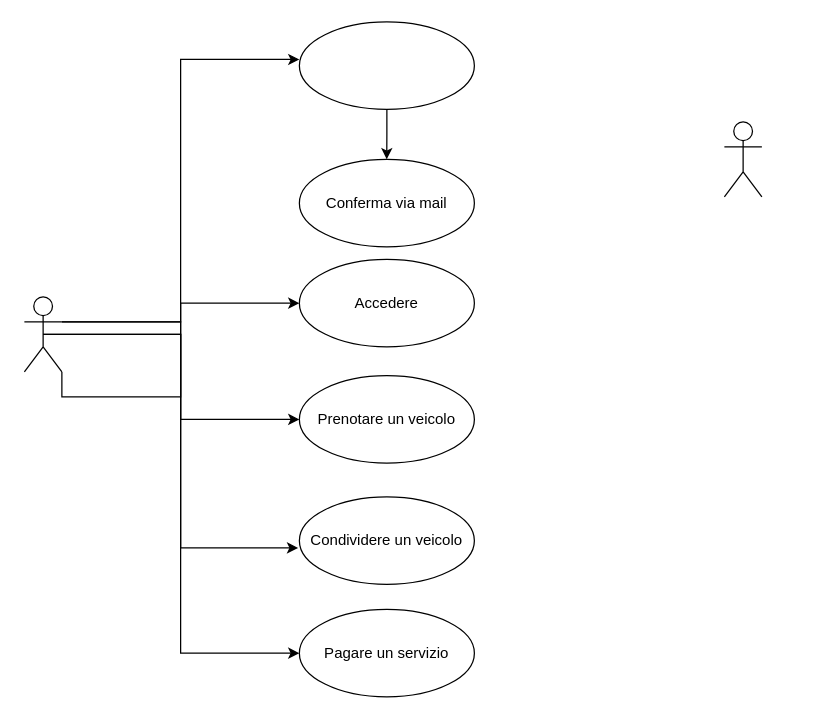
Some shapes in this 834 by 719 pixel diagram are drawn without their labels. The centre of each missing label's shape, as x and y in pixels:
"Azienda Car-Sharing" goes at [742,159].
"Registrarsi" goes at [386,65].
"Utente" goes at [42,334].
